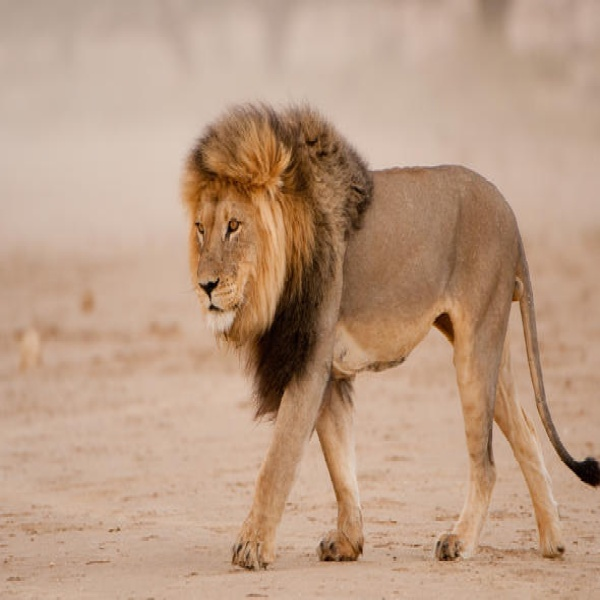Lion: (178, 98, 600, 575)
